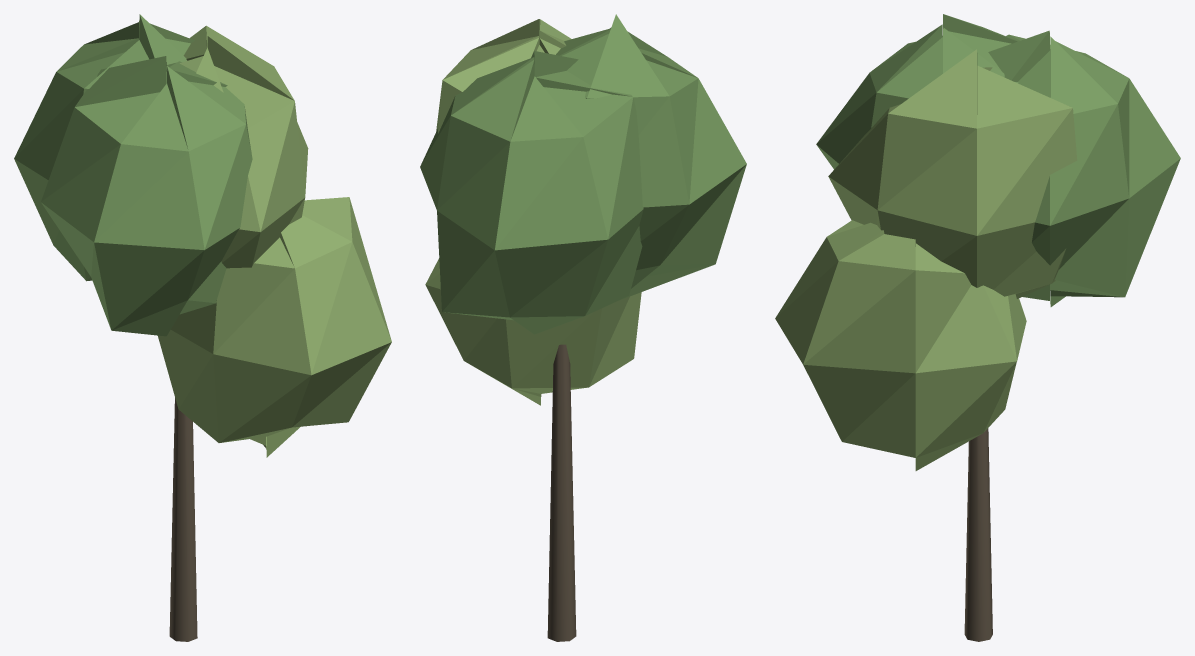
The model's file is oak_tree_variant_01_lod1.glb.
3 renders of one model, left to right at view 1: azimuth 30°, elevation 25°; view 2: azimuth 150°, elevation 25°; view 3: azimuth 270°, elevation 25°, orthographic. The views are drawn at different scales.
Parts seen in each view (by area): view 1: static_leaf_oak, static_leaf_light, trunk; view 2: static_leaf_oak, static_leaf_light, trunk; view 3: static_leaf_light, static_leaf_oak, trunk.
Boxes of the visible parts, <box> form: static_leaf_oak: <box>14,14,252,336</box>; static_leaf_light: <box>158,25,391,457</box>; trunk: <box>169,398,197,641</box>; static_leaf_oak: <box>420,14,746,334</box>; static_leaf_light: <box>425,19,641,405</box>; trunk: <box>547,344,576,641</box>; static_leaf_light: <box>775,49,1077,470</box>; static_leaf_oak: <box>816,14,1180,306</box>; trunk: <box>964,428,992,641</box>.
Size of the model in its own units: 4.36 by 9.17 by 5.58.
